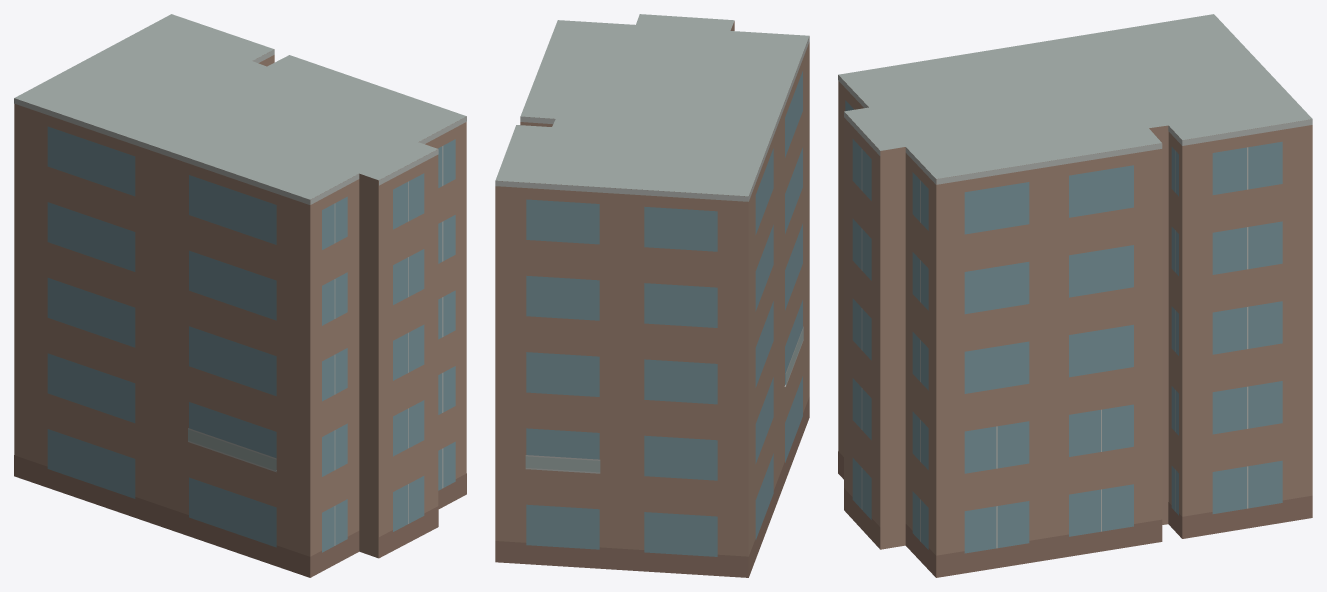
File: survey-upis-32881622.glb
3 renders of one model, left to right at view 1: azimuth 30°, elevation 25°; view 2: azimuth 150°, elevation 25°; view 3: azimuth 270°, elevation 25°, orthographic. The views are drawn at different scales.
Parts seen in each view (by area): view 1: survey-upis-32881622.tmp; view 2: survey-upis-32881622.tmp; view 3: survey-upis-32881622.tmp.
Boxes of the visible parts, left/top/right/bottom form: survey-upis-32881622.tmp: left=14, top=14, right=466, bottom=577; survey-upis-32881622.tmp: left=495, top=14, right=809, bottom=577; survey-upis-32881622.tmp: left=838, top=14, right=1312, bottom=577.
Bounding box in the file's own units: 15.06 × 16.95 × 18.29.
